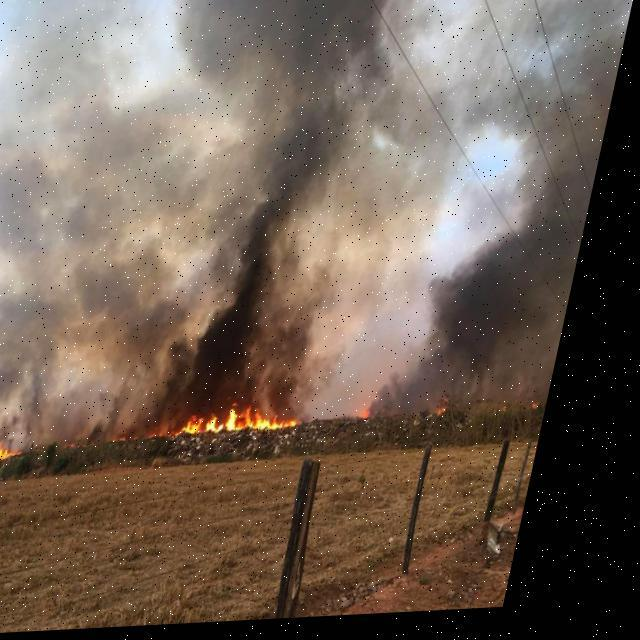Fire: (200, 400, 322, 444), (0, 444, 36, 488), (456, 400, 469, 420), (380, 411, 390, 423)
